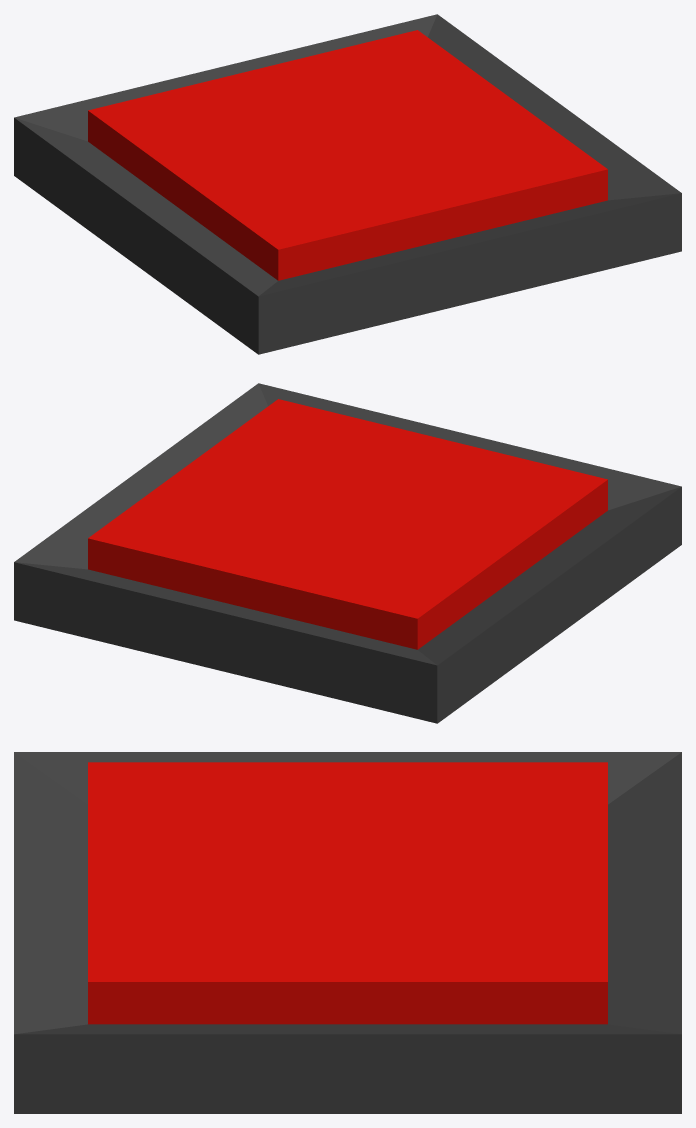
The model's file is Pad.fbx.
The picture shows the model from 3 angles, top to bottom: view 1: azimuth 30°, elevation 25°; view 2: azimuth 150°, elevation 25°; view 3: azimuth 270°, elevation 25°; orthographic projection. The views are drawn at different scales.
Parts seen in each view (by area): view 1: Cube; view 2: Cube; view 3: Cube.
Part boxes in pixels (box(x1,y1,x2,y2)): Cube: box(14, 14, 681, 354); Cube: box(14, 383, 681, 723); Cube: box(14, 752, 681, 1113).
Bounding box in the file's own units: 200 × 33.27 × 200.
